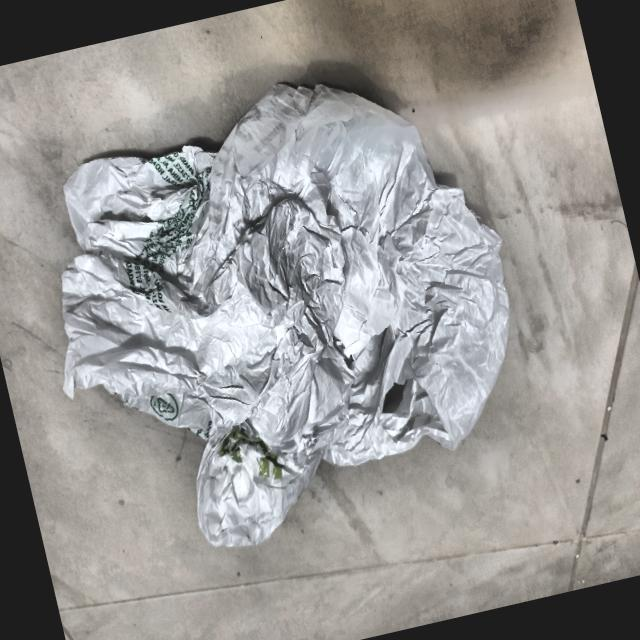plastic bag: (5, 38, 562, 584)
